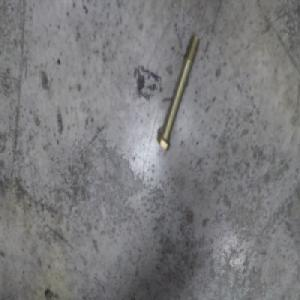Bolt: (156, 34, 201, 152)
